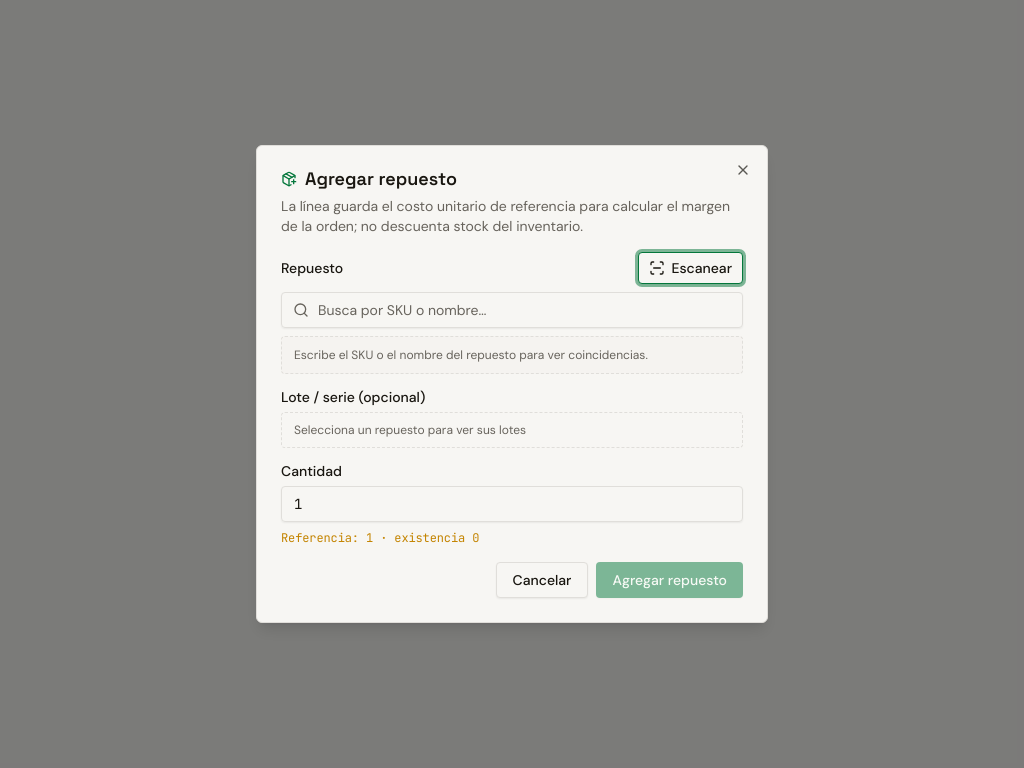
it: AddPartDialog › rejects a quantity above the available stock and does not save
In the search field with test id "order_detail.add_part.search_input": (512, 310) [281,292,743,328], type "Balata de freno"
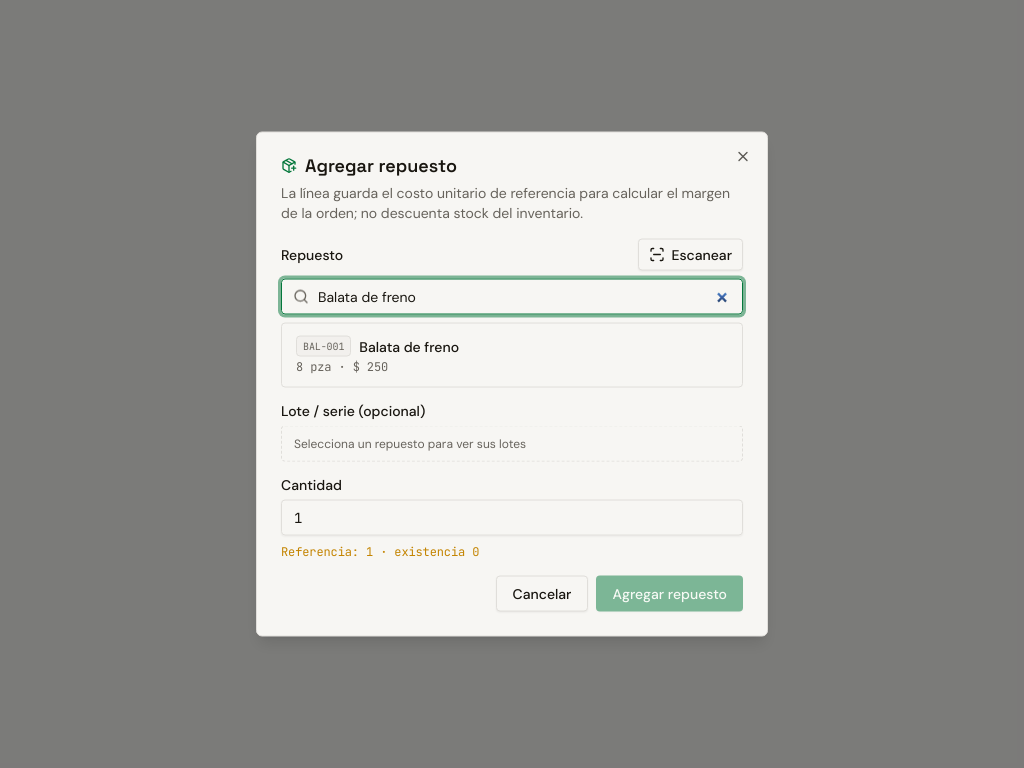
Click the text "Balata de freno": (409, 346) [359,336,459,356]
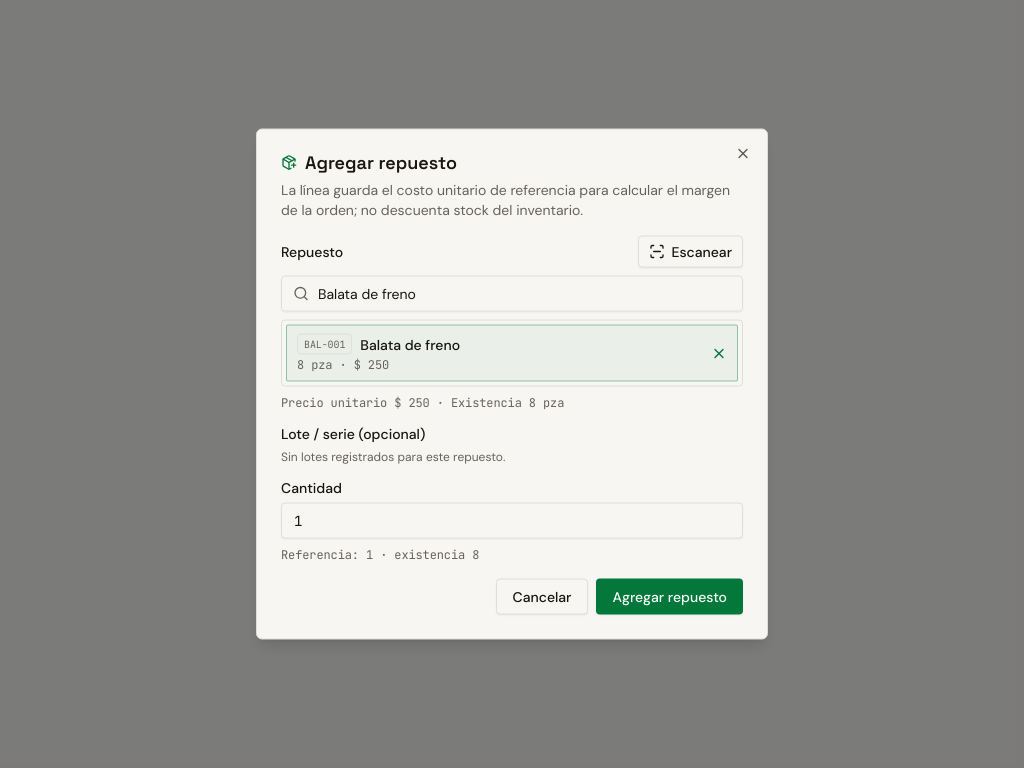
Clear the number field with test id "order_detail.add_part.quantity_input": (512, 520) [281,502,743,538]
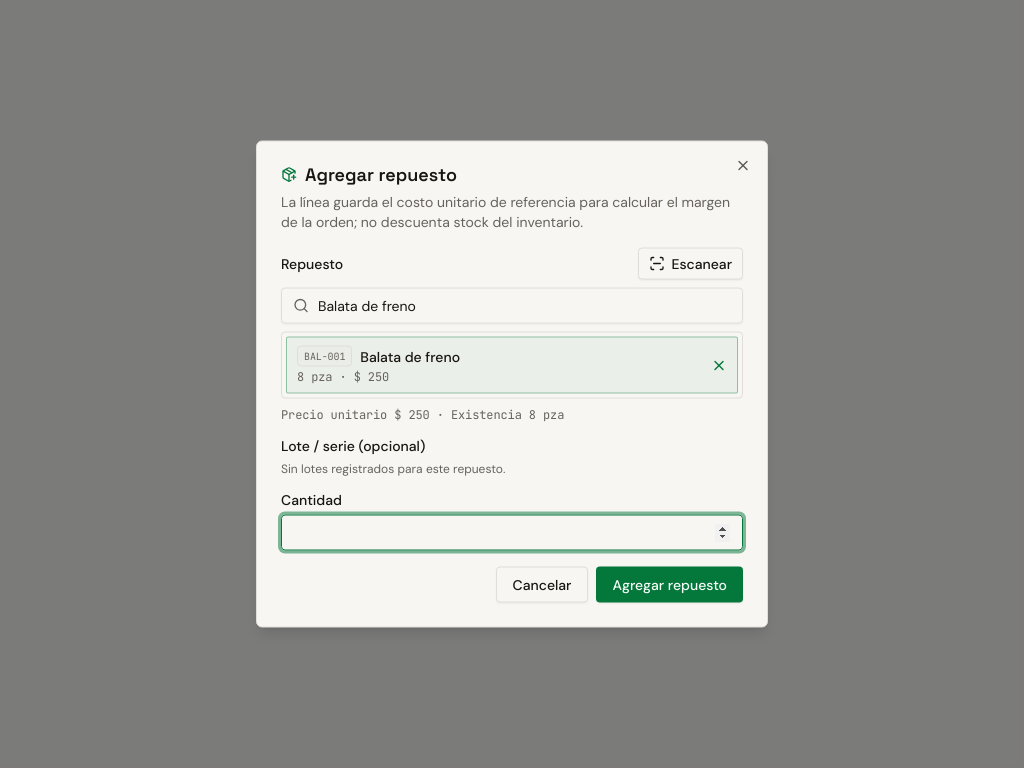
In the number field with test id "order_detail.add_part.quantity_input": (512, 532) [281,514,743,550], type "9"
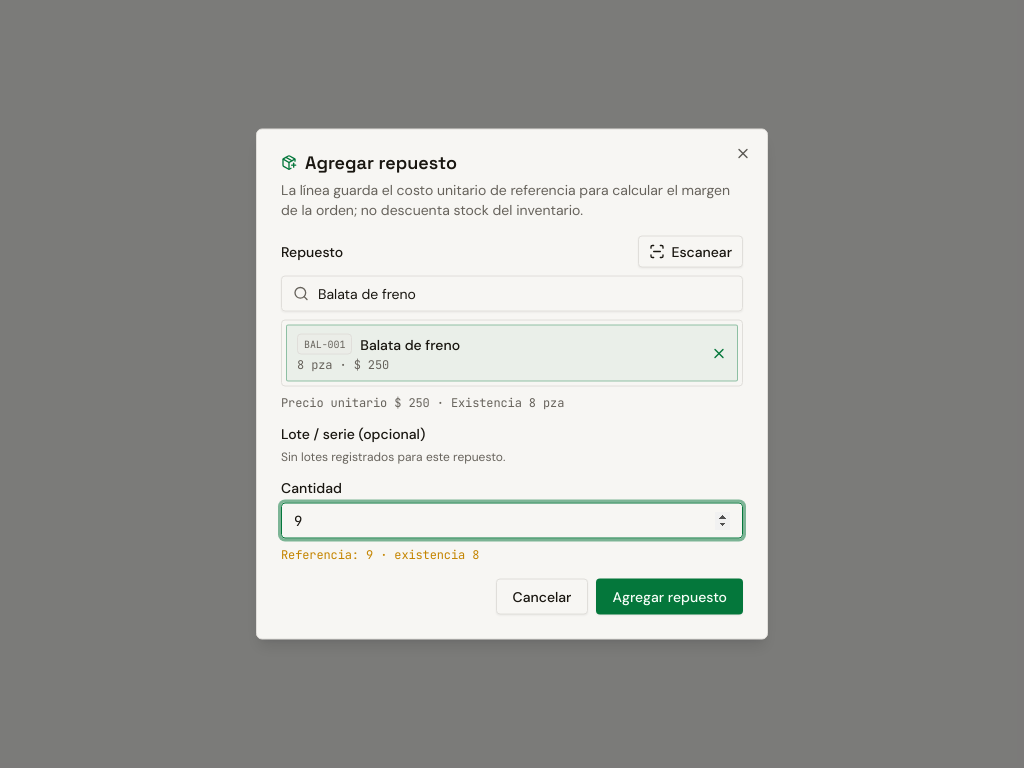
Click the button with test id "order_detail.add_part.submit_button": (670, 596) [596,578,743,614]
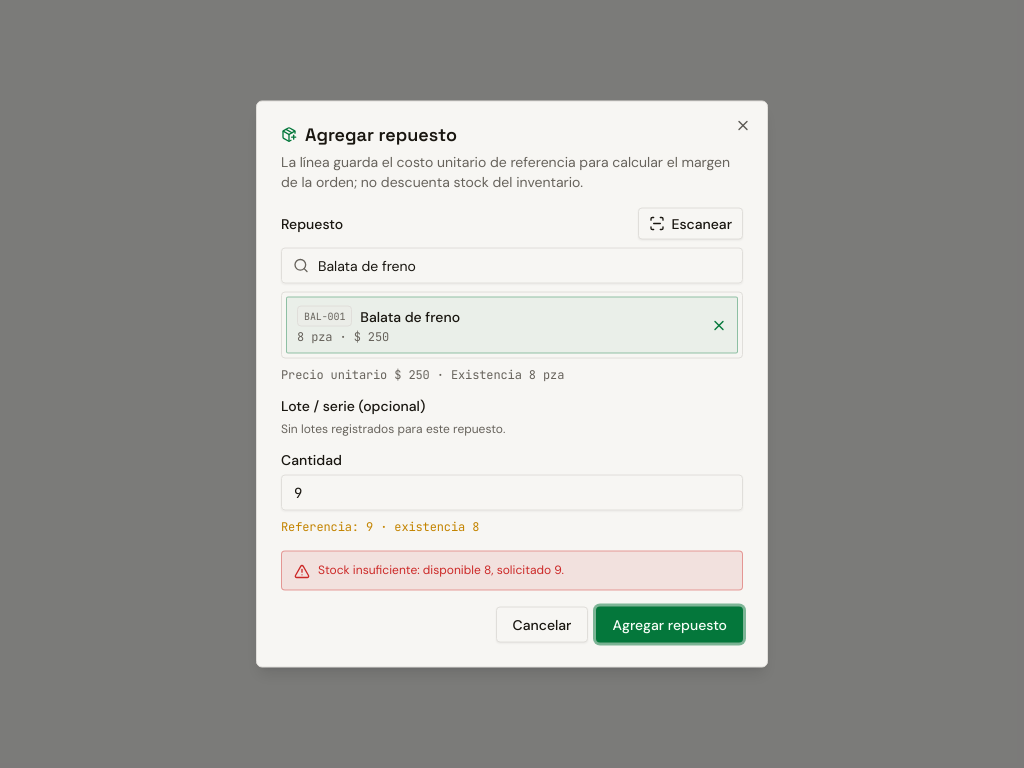
Now the element with test id "order_detail.add_part.error_state" shows "Stock insuficiente", box [318,562,564,578]
